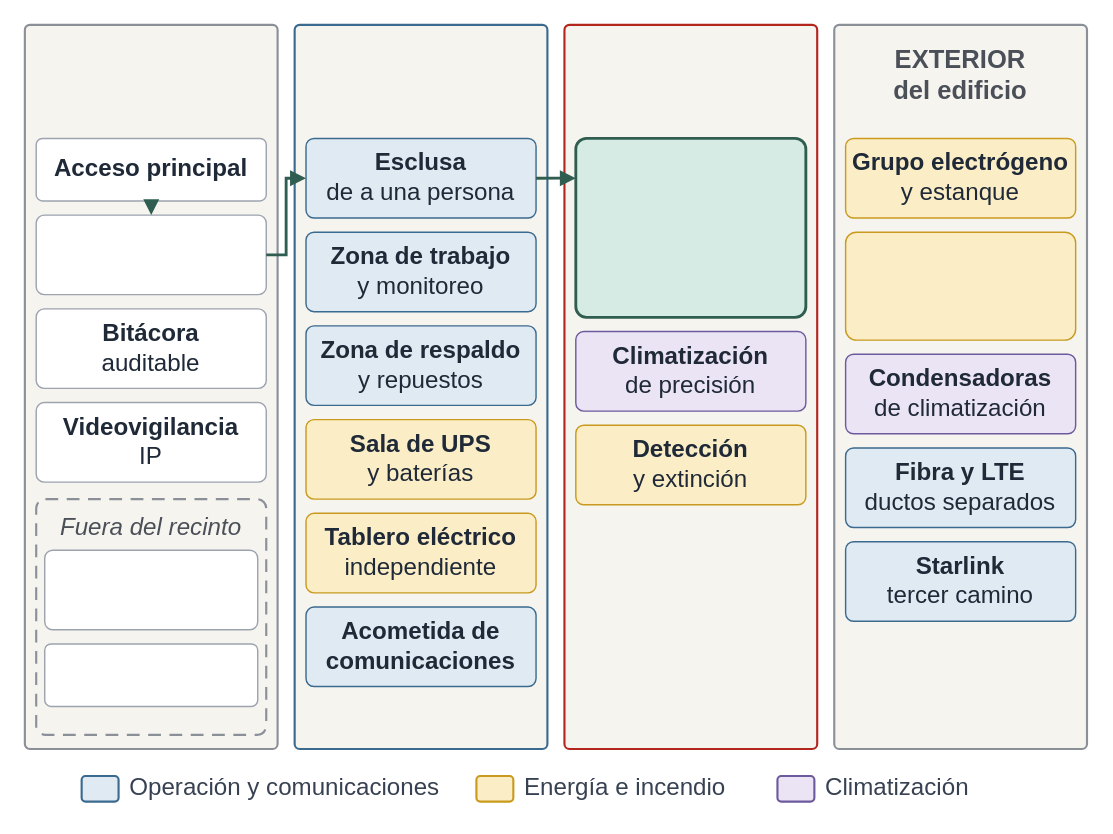
Image size: 1113x834. Some labels were removed from this diagram. The box of each missing label's shape, as (x1, y1, x2, y2) in pixels:
1.ª LÍNEA Control de acceso: (23, 23, 278, 749)
2.ª LÍNEA Técnica: (293, 23, 548, 749)
3.ª LÍNEA Restringida: (563, 23, 818, 749)
Baños y cañerías: (43, 643, 258, 706)
Empalme y transferencia automática: (844, 231, 1076, 340)
Enrolamiento en oficinas del CD: (43, 549, 258, 630)
Pasillo de control y enrolamiento: (35, 214, 266, 295)
Sala de servidores y comunicaciones Racks R01 y R02: (574, 136, 807, 318)
